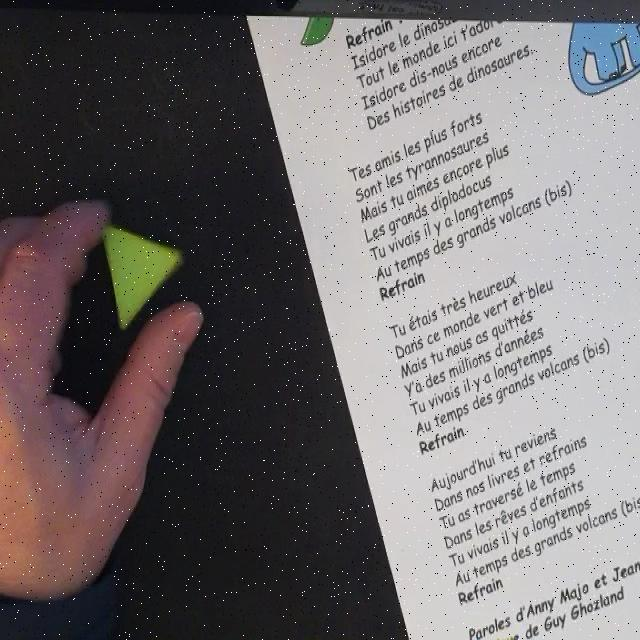triangle: (98, 221, 184, 331)
